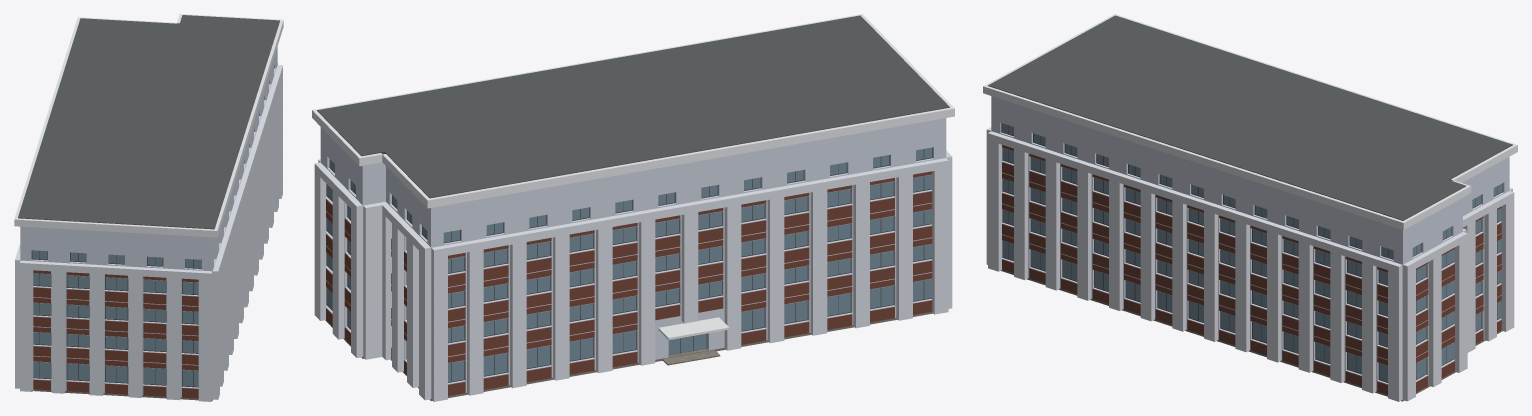
3 renders of one model, left to right at view 1: azimuth 30°, elevation 25°; view 2: azimuth 150°, elevation 25°; view 3: azimuth 270°, elevation 25°, orthographic. The views are drawn at different scales.
Visible parts, largest first — view 1: solgeo-1__darkroof, solgeo-1__pier, solgeo-1__white, solgeo-1__spandrel2, solgeo-1__glass, solgeo-1__fascia, solgeo-1__darkframe, solgeo-1__stone; view 2: solgeo-1__darkroof, solgeo-1__pier, solgeo-1__white, solgeo-1__spandrel2, solgeo-1__glass, solgeo-1__fascia, solgeo-1__darkframe, solgeo-1__stone, solgeo-1__canopy; view 3: solgeo-1__darkroof, solgeo-1__pier, solgeo-1__white, solgeo-1__spandrel2, solgeo-1__glass, solgeo-1__fascia, solgeo-1__darkframe, solgeo-1__stone.
Part boxes in pixels (left/top/right/bottom): solgeo-1__darkroof: left=18, top=15, right=279, bottom=229; solgeo-1__pier: left=15, top=62, right=282, bottom=401; solgeo-1__white: left=20, top=47, right=277, bottom=398; solgeo-1__spandrel2: left=33, top=270, right=198, bottom=398; solgeo-1__glass: left=32, top=250, right=201, bottom=386; solgeo-1__fascia: left=14, top=14, right=283, bottom=237; solgeo-1__darkframe: left=31, top=65, right=274, bottom=387; solgeo-1__stone: left=33, top=389, right=212, bottom=400; solgeo-1__darkroof: left=317, top=15, right=949, bottom=198; solgeo-1__pier: left=314, top=151, right=952, bottom=401; solgeo-1__white: left=320, top=118, right=946, bottom=398; solgeo-1__spandrel2: left=326, top=171, right=932, bottom=395; solgeo-1__glass: left=326, top=147, right=932, bottom=382; solgeo-1__fascia: left=312, top=14, right=954, bottom=208; solgeo-1__darkframe: left=326, top=147, right=932, bottom=382; solgeo-1__stone: left=325, top=311, right=932, bottom=400; solgeo-1__canopy: left=658, top=317, right=729, bottom=340; solgeo-1__darkroof: left=988, top=15, right=1512, bottom=220; solgeo-1__pier: left=986, top=127, right=1514, bottom=401; solgeo-1__white: left=991, top=96, right=1509, bottom=399; solgeo-1__spandrel2: left=1002, top=145, right=1501, bottom=394; solgeo-1__glass: left=1002, top=123, right=1502, bottom=382; solgeo-1__fascia: left=983, top=14, right=1517, bottom=229; solgeo-1__darkframe: left=1001, top=123, right=1502, bottom=382; solgeo-1__stone: left=1001, top=269, right=1502, bottom=401.
Size of the model in its own units: 50.75 by 20.67 by 54.84.
10 materials, 3 textured.
